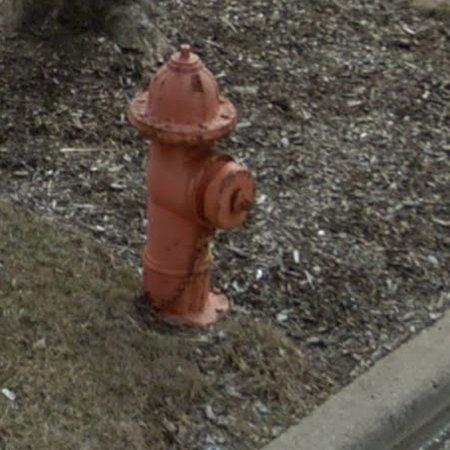a fire hydrant: (128, 44, 256, 327)
